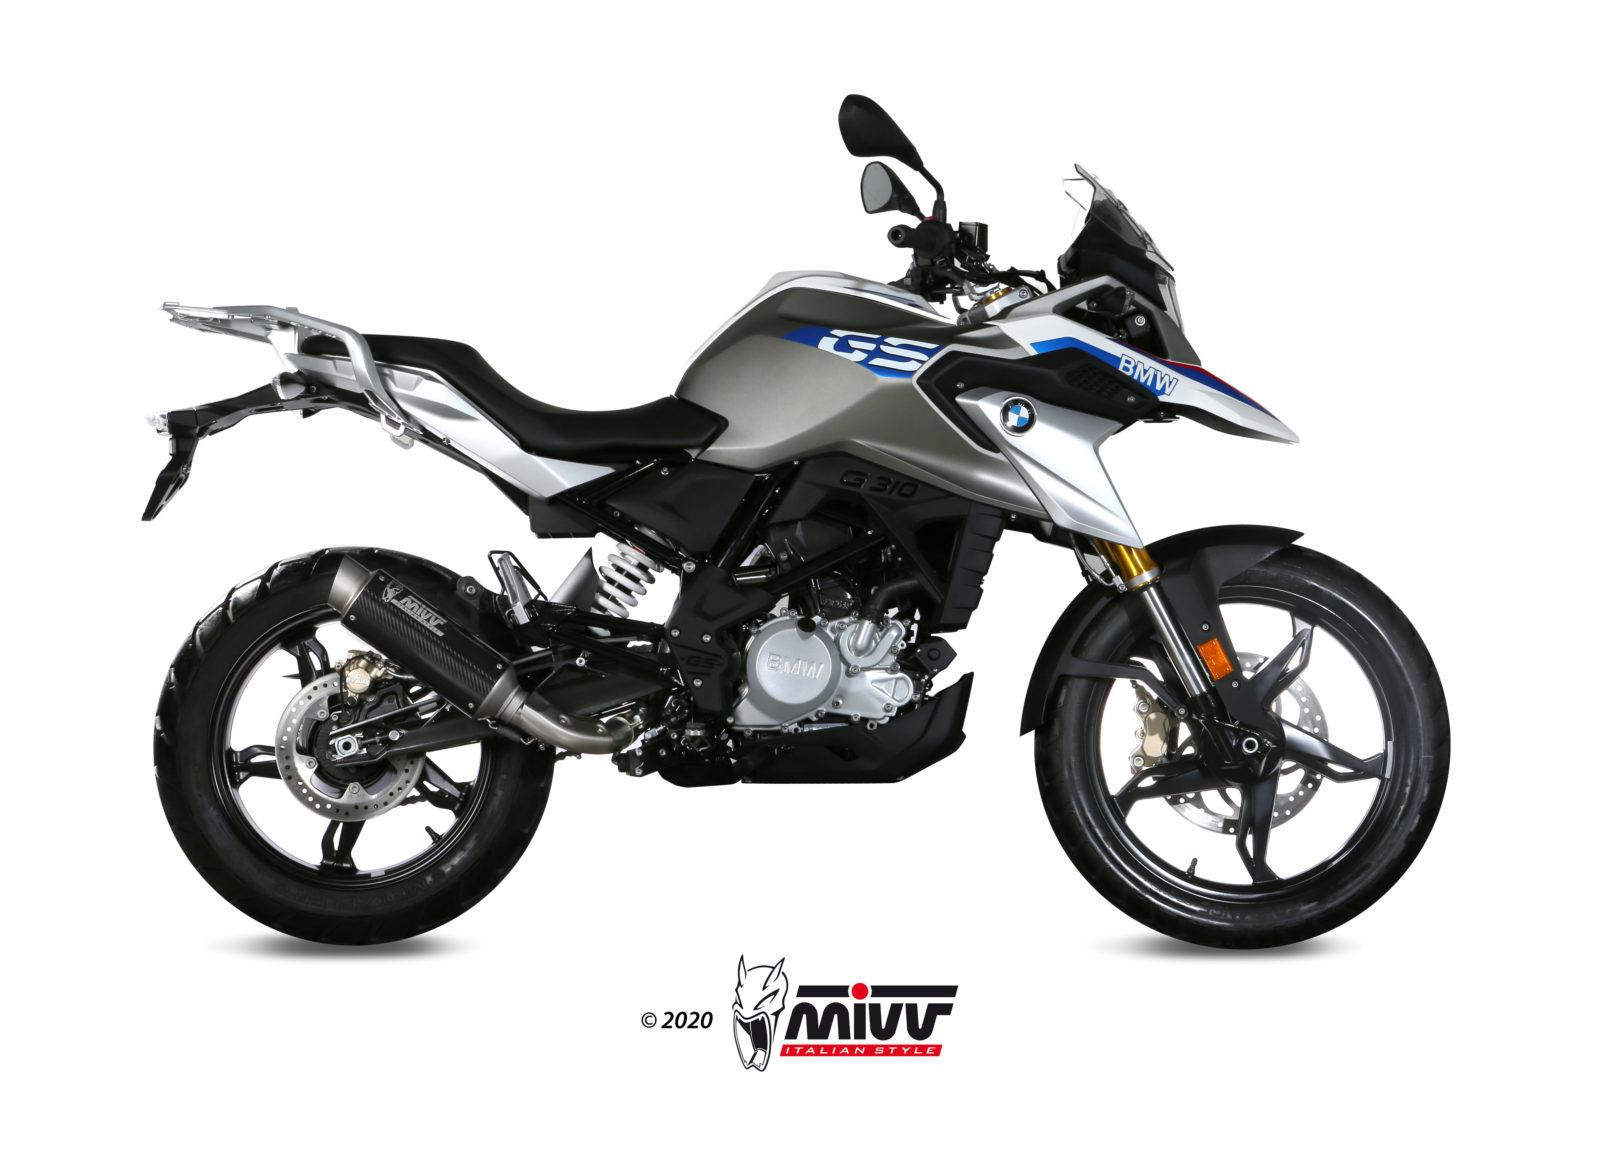engine-chasis: (615, 452, 974, 789), (590, 538, 665, 619), (634, 523, 677, 552)
exhaust: (327, 553, 663, 755)
frontside: (673, 163, 1304, 784)
handlebar: (837, 93, 1057, 314), (1056, 215, 1094, 288)
motorbike: (144, 94, 1452, 947)
rearside: (139, 301, 780, 719), (328, 696, 497, 768)
seat: (360, 334, 728, 462)
tank: (673, 270, 957, 395)
watermark: (631, 951, 971, 1079)
wheel: (1034, 544, 1452, 950), (153, 545, 557, 947), (1067, 529, 1127, 593)
